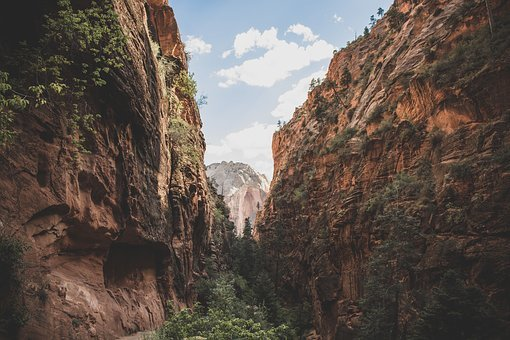mountain: (3, 6, 223, 340), (286, 6, 506, 340)
sky: (184, 2, 334, 127)
